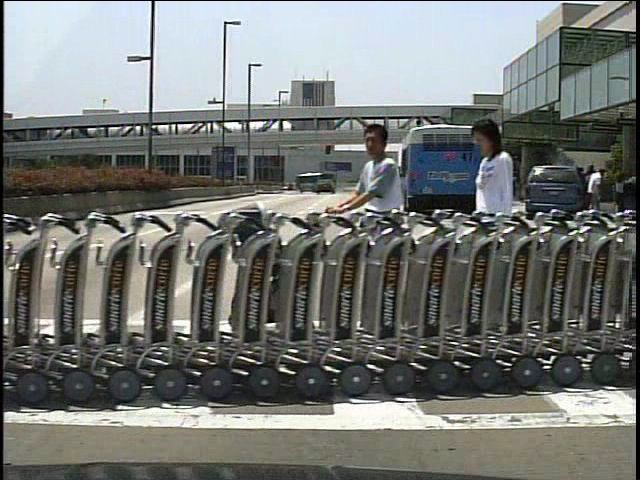person: (325, 118, 424, 363), (467, 115, 528, 328), (588, 165, 607, 215), (583, 163, 600, 214)
